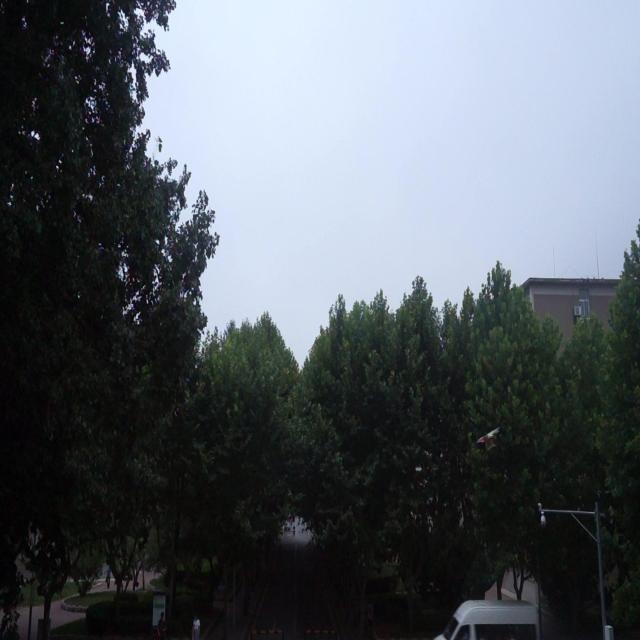drone: (475, 424, 502, 455)
